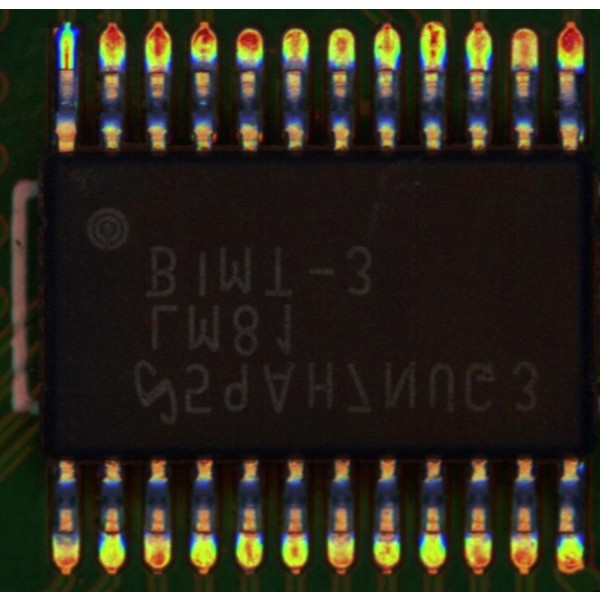Bad_podu: (425, 49, 440, 79), (472, 56, 485, 86), (243, 521, 258, 546), (150, 523, 167, 545), (517, 57, 528, 88), (379, 526, 395, 547), (287, 523, 303, 544), (334, 527, 351, 545), (60, 55, 72, 76)
